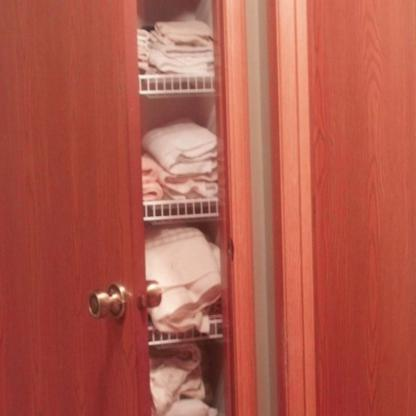door: (0, 0, 151, 415)
knob: (84, 274, 134, 328), (145, 274, 163, 312)
